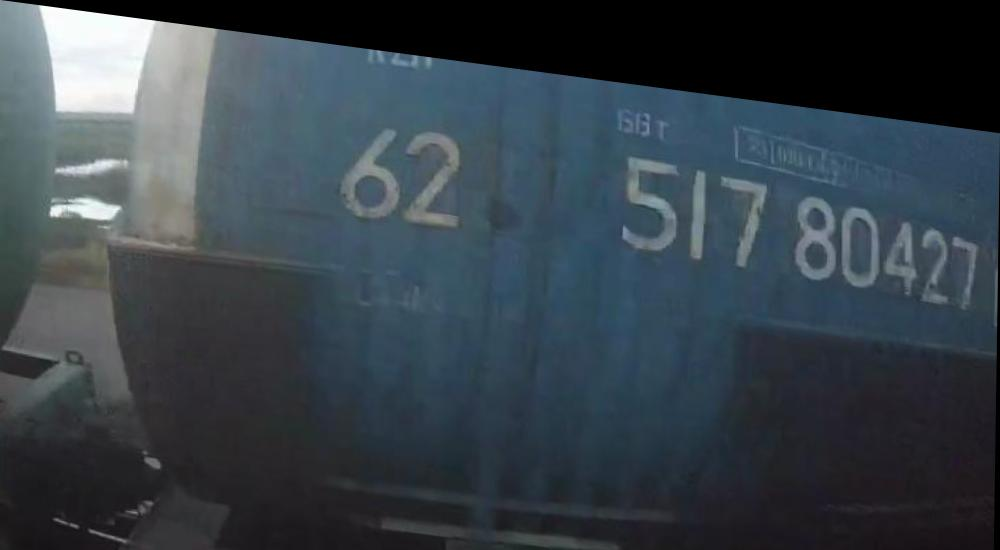Wagon-number: (613, 127, 986, 297)
